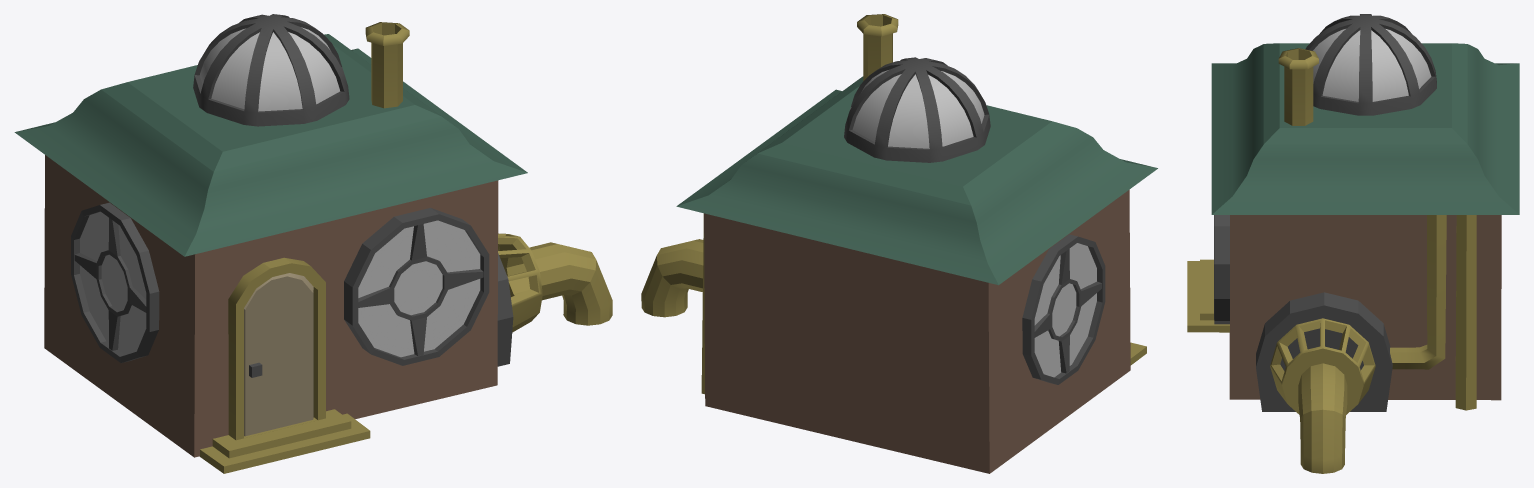
Rendered from SteampunkHouse.fbx.
The picture shows the model from 3 angles, left to right: view 1: azimuth 30°, elevation 25°; view 2: azimuth 150°, elevation 25°; view 3: azimuth 270°, elevation 25°; orthographic projection. The views are drawn at different scales.
Parts seen in each view (by area): view 1: House; view 2: House; view 3: House.
Part boxes in pixels (x1,y1,x2,y2): House: [14, 14, 612, 473]; House: [641, 14, 1157, 473]; House: [1187, 14, 1519, 473].
Size of the model in its own units: 10.73 by 7.35 by 7.02.
